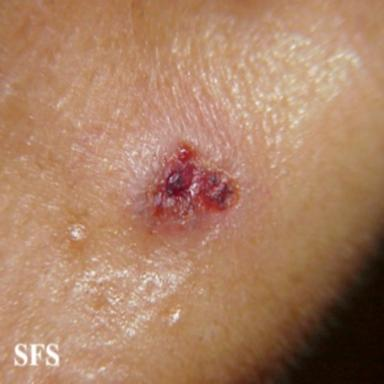basal-cell-carcinoma: (139, 135, 244, 239)
